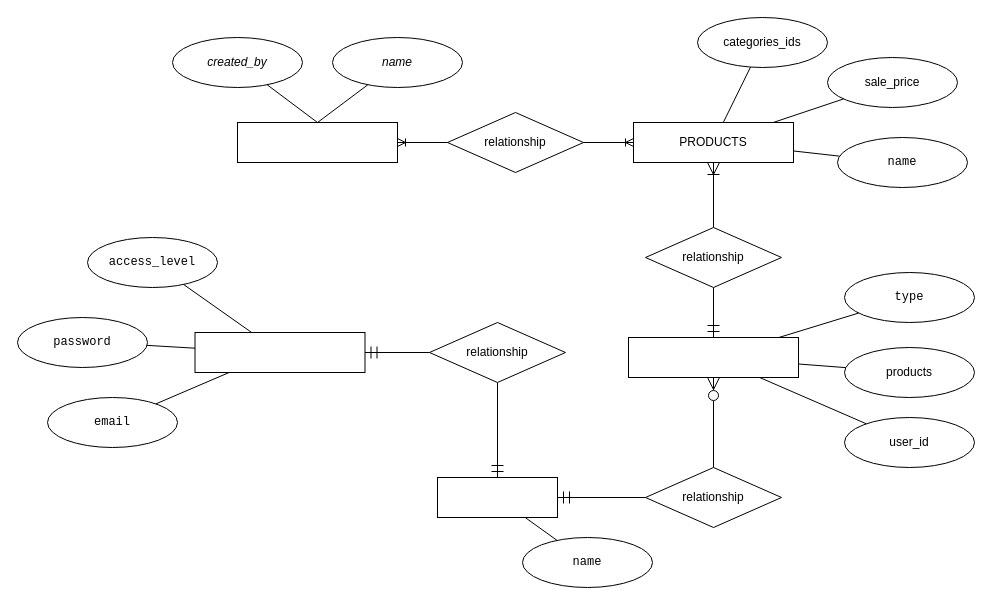
This 992x605 diagram has some shape labels left out. The shapes that lost their labels are listed below. From the top down, each one's centre as x and y in pixels, then its label:
(x=317, y=142): CATEGORIAS
(x=279, y=352): AUTHENTICATE
(x=713, y=357): TRANSACTION
(x=497, y=497): USERS
